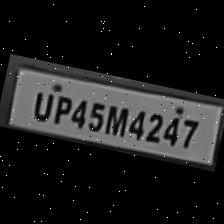2: (140, 105, 164, 144)
4: (158, 108, 184, 146), (122, 102, 146, 140), (66, 91, 90, 127)
5: (83, 95, 108, 131)
7: (175, 111, 201, 149)
M: (101, 97, 128, 136)
P: (49, 87, 72, 123)
U: (26, 84, 55, 120)
